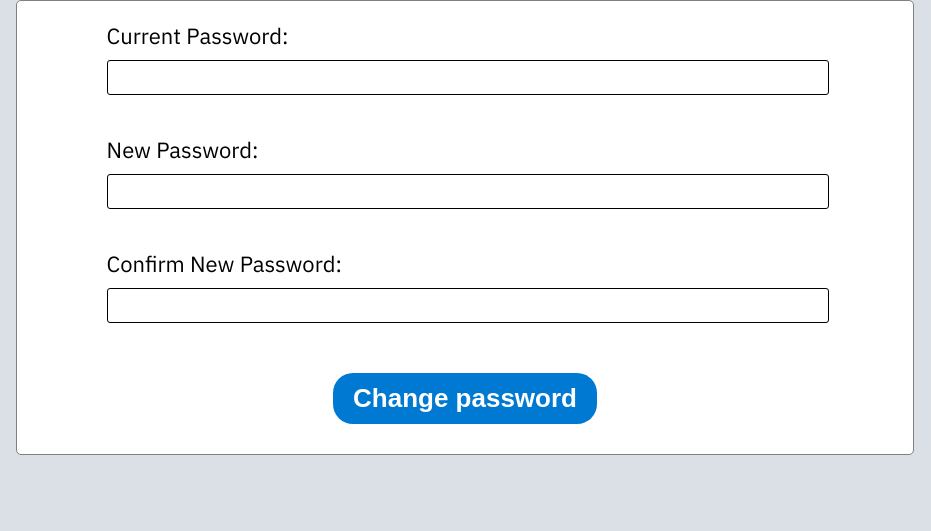
Test: PasswordEditForm component › renders correct error message if passwords don't match
Type "123456" into the password field labelled "Current Password:" at (468, 78), box [107,60,829,95]
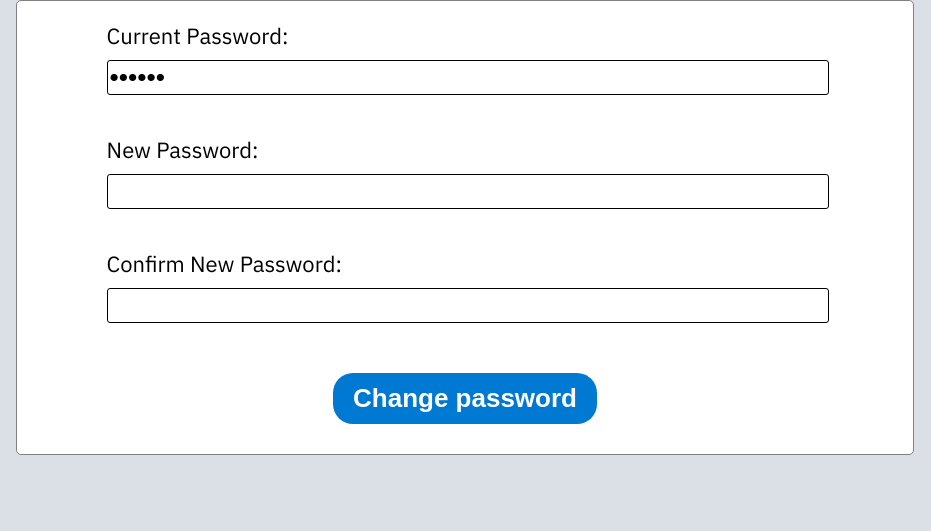
Type "qwerty" into the password field with id "newPassword" at (468, 192), box [107,174,829,209]
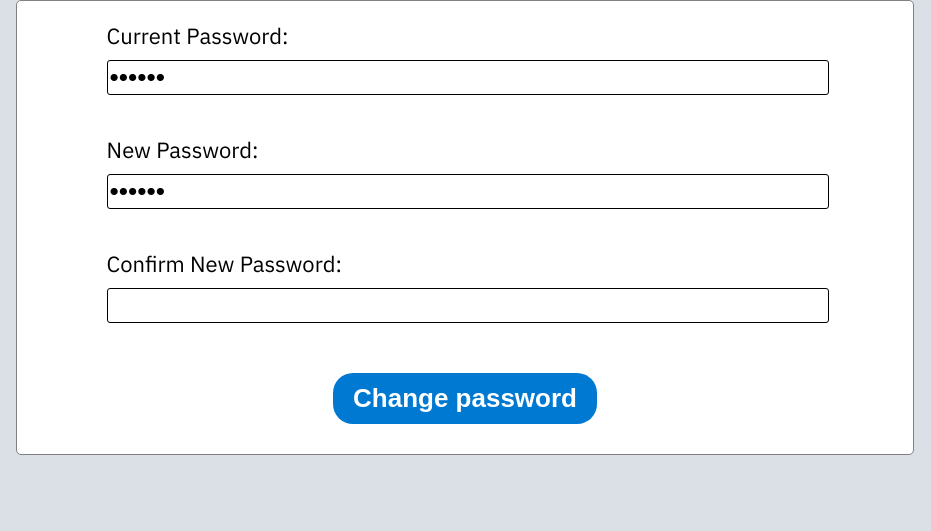
Type "asdfgh" into the password field with id "confPassword" at (468, 306), box [107,288,829,323]
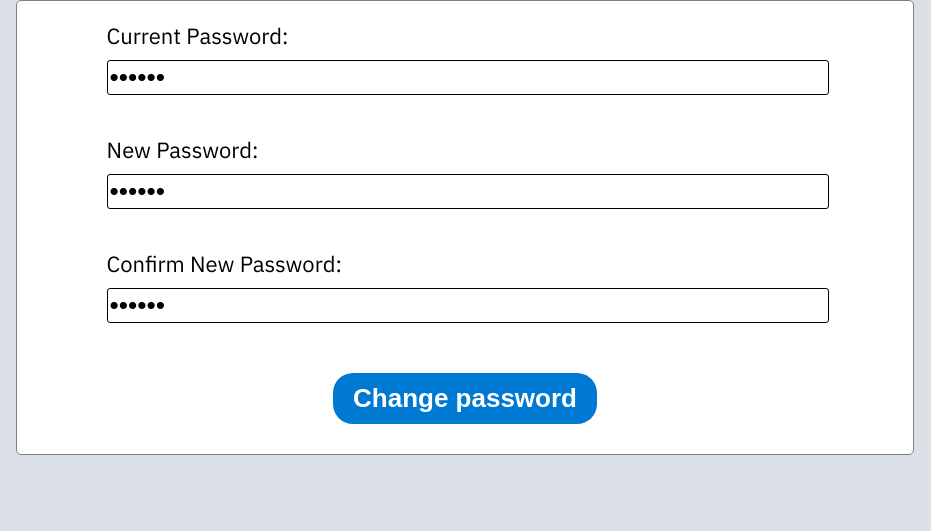
Submit the form
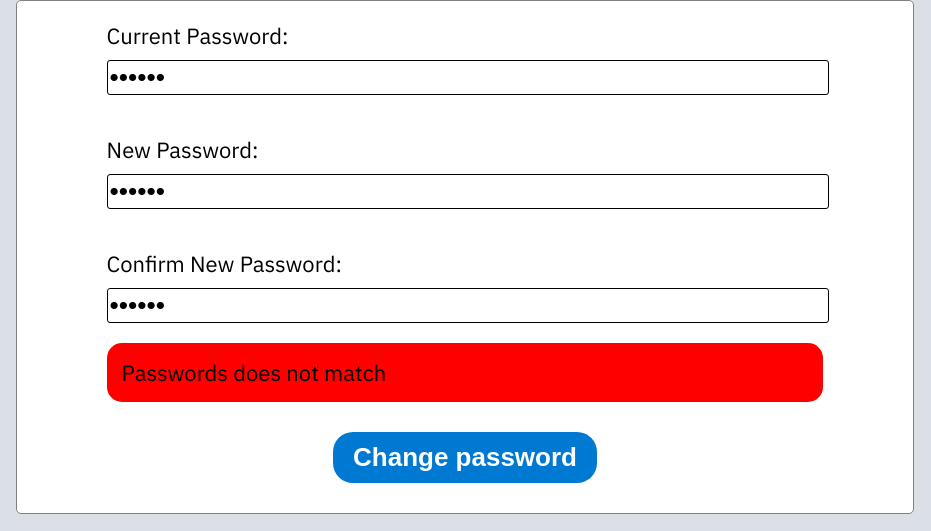
Check: the element with class "form-errors" reads "Passwords does not match", box [122,358,386,387]
